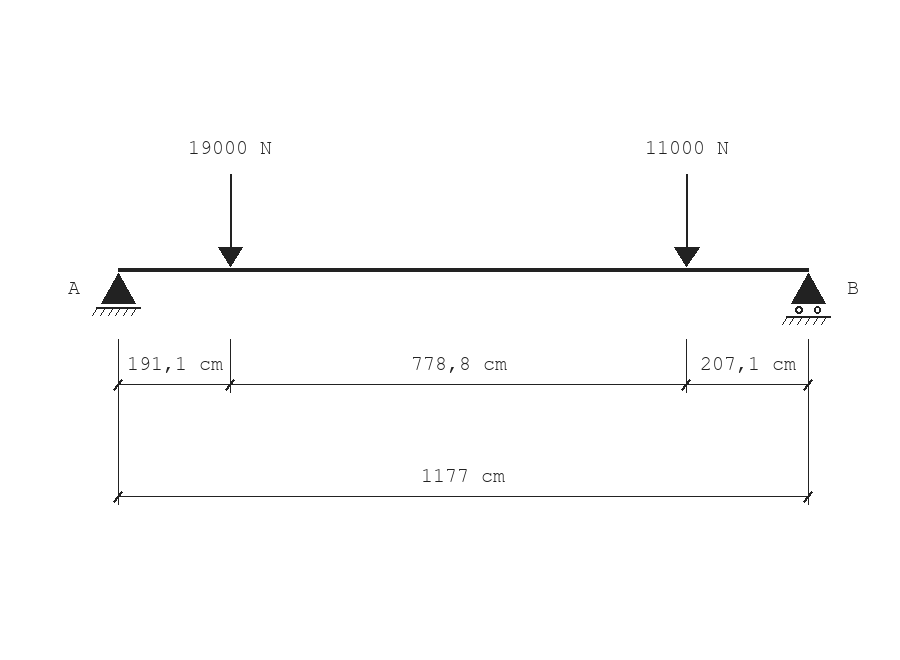pin_support: (92, 273, 141, 316)
point_load: (674, 174, 700, 267), (218, 174, 243, 267)
roller_support: (782, 273, 831, 325)
